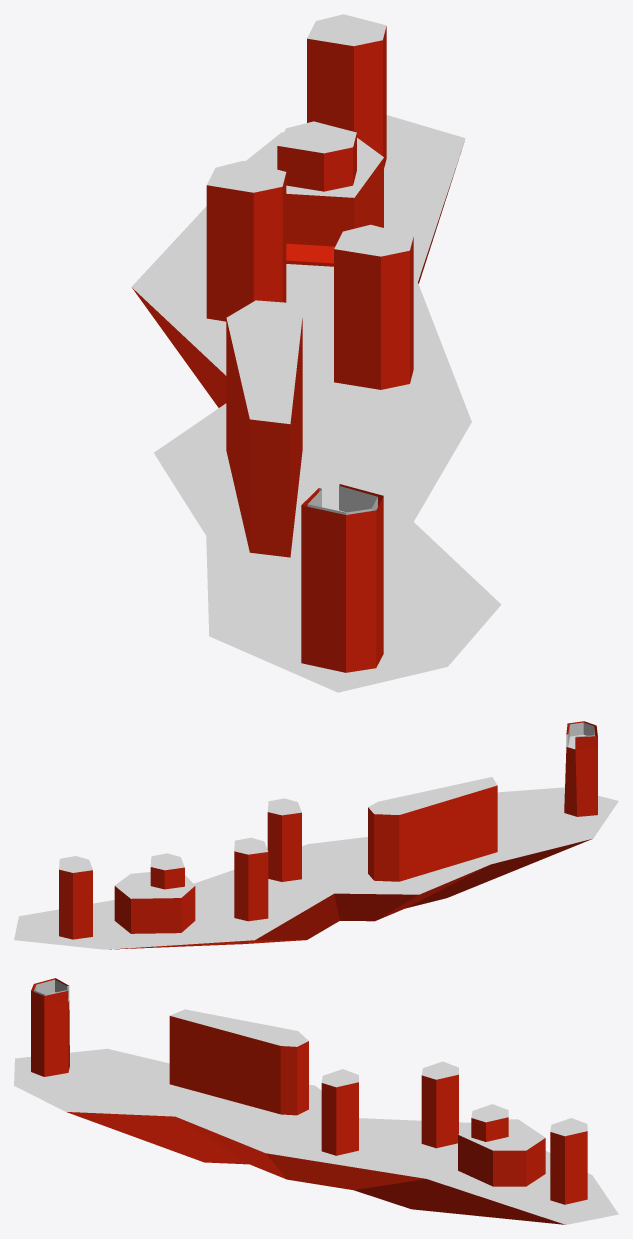
File: snowyrockcliff.fbx
3 renders of one model, top to bottom at view 1: azimuth 30°, elevation 25°; view 2: azimuth 150°, elevation 25°; view 3: azimuth 270°, elevation 25°, orthographic. The views are drawn at different scales.
Parts seen in each view (by area): view 1: Cliffmesh; view 2: Cliffmesh; view 3: Cliffmesh.
Boxes of the visible parts, left/top/right/bottom form: Cliffmesh: left=131, top=14, right=501, bottom=692; Cliffmesh: left=14, top=721, right=618, bottom=949; Cliffmesh: left=14, top=978, right=618, bottom=1224.
Size of what is drawn, in the model's own units: 2154 by 702 by 3125.
